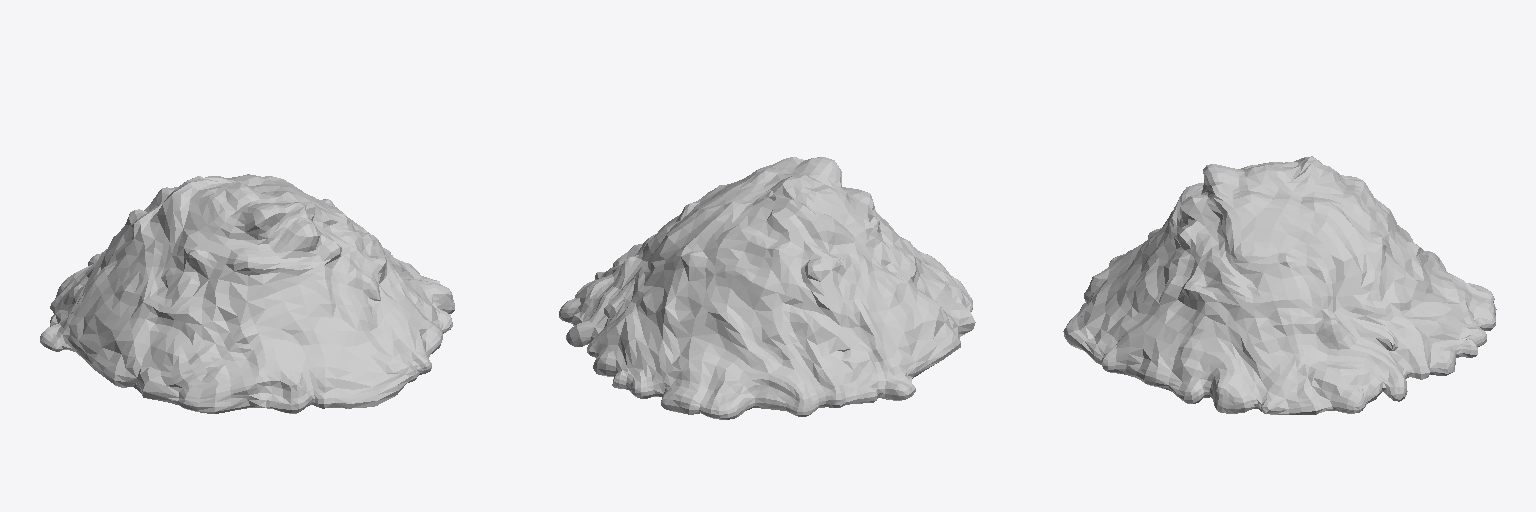
Rendered from ashes.obj.
3 renders of one model, left to right at view 1: azimuth 30°, elevation 25°; view 2: azimuth 150°, elevation 25°; view 3: azimuth 270°, elevation 25°, orthographic.
Visible parts, largest first — view 1: mesh; view 2: mesh; view 3: mesh.
Part boxes in pixels (left/top/right/bottom): mesh: left=40, top=174, right=454, bottom=413; mesh: left=559, top=157, right=975, bottom=419; mesh: left=1063, top=156, right=1496, bottom=414.
Size of the model in its own units: 0.9474 by 0.3981 by 0.9944.